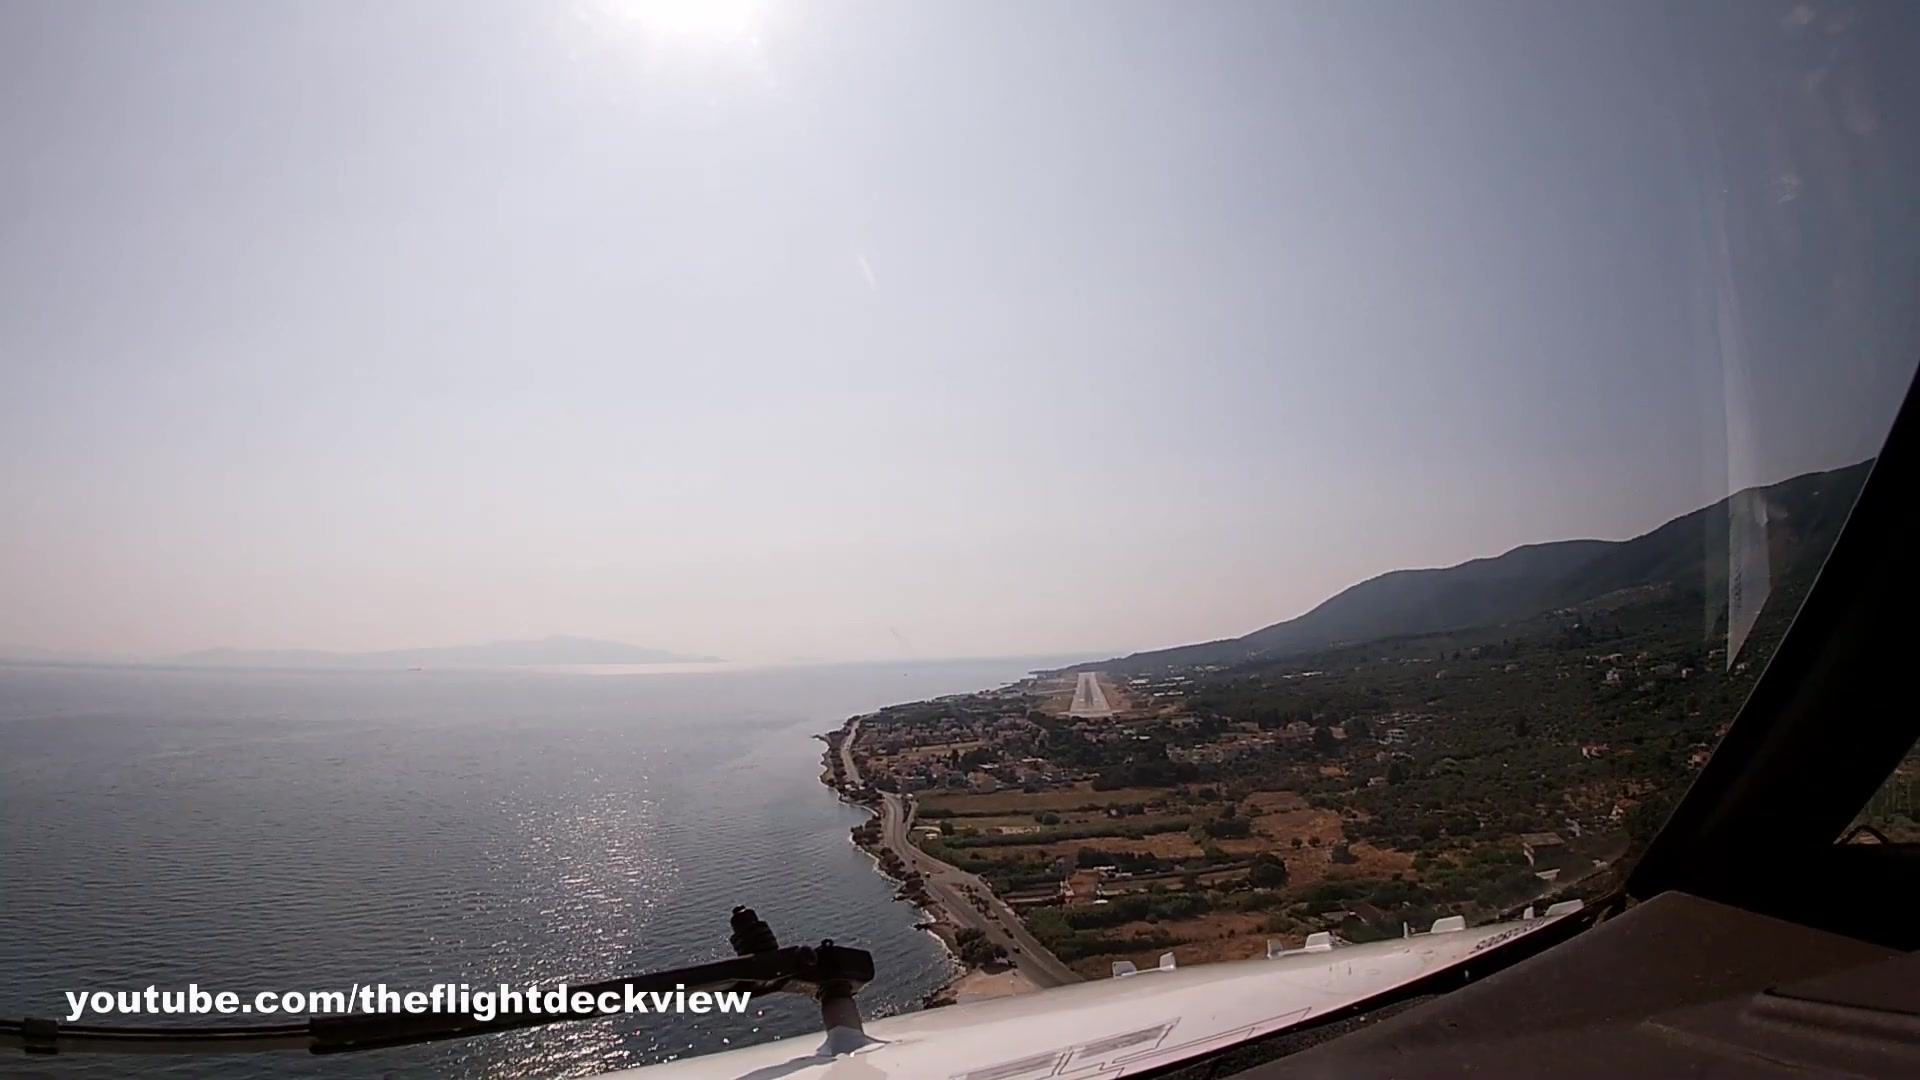runway: (1065, 673, 1112, 715)
